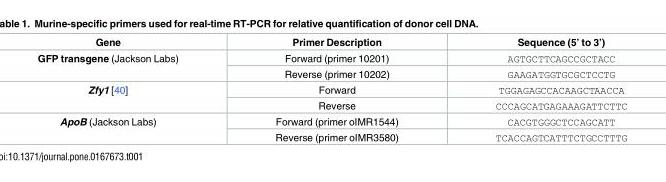table: (36, 37, 626, 143)
table column: (226, 37, 446, 143), (36, 37, 226, 143), (446, 37, 626, 143)
table column header: (36, 37, 626, 50)
table row: (36, 50, 626, 66), (36, 66, 626, 82), (36, 82, 626, 98), (36, 113, 626, 129), (36, 98, 626, 113), (36, 129, 626, 143), (36, 37, 626, 50)
table spanning cell: (36, 50, 226, 82), (36, 82, 226, 113), (36, 113, 226, 143)
